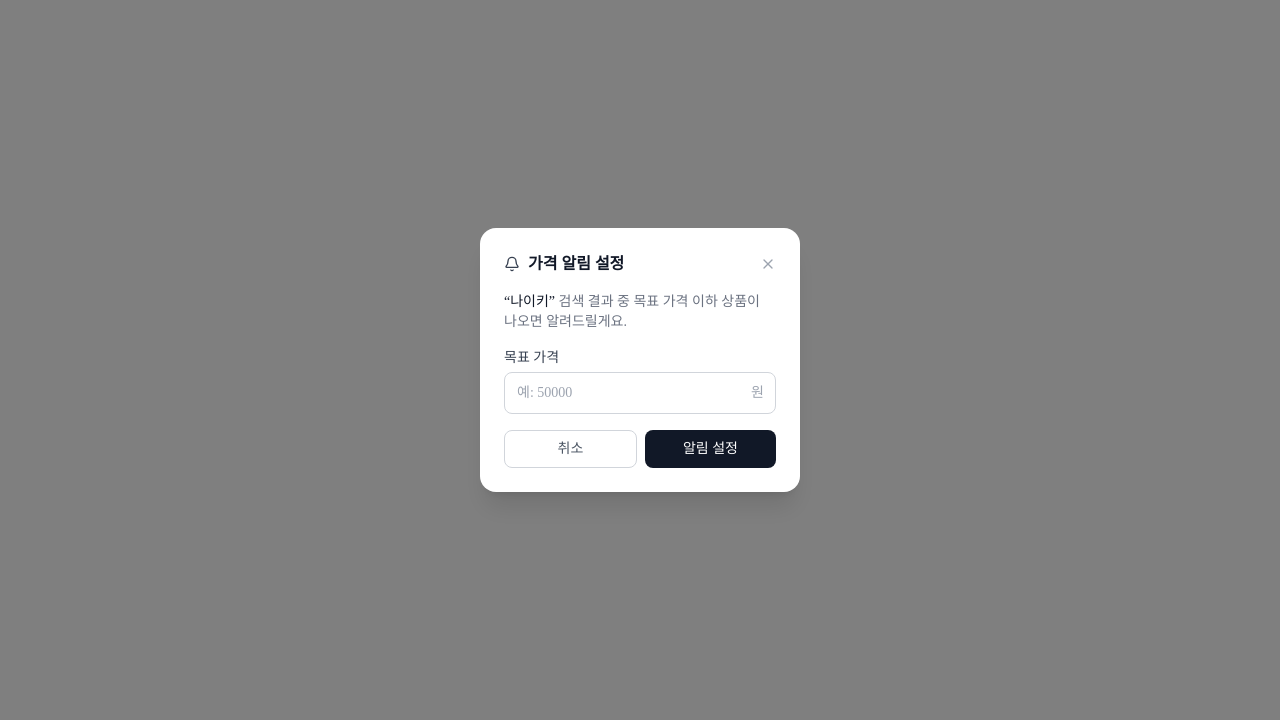
it: AlertModal › 가격 미입력 제출 → 에러 표시
The width and height of the screenshot is (1280, 720).
Step 1. Click the button "알림 설정" → point(710, 449), box [645,430,776,468]
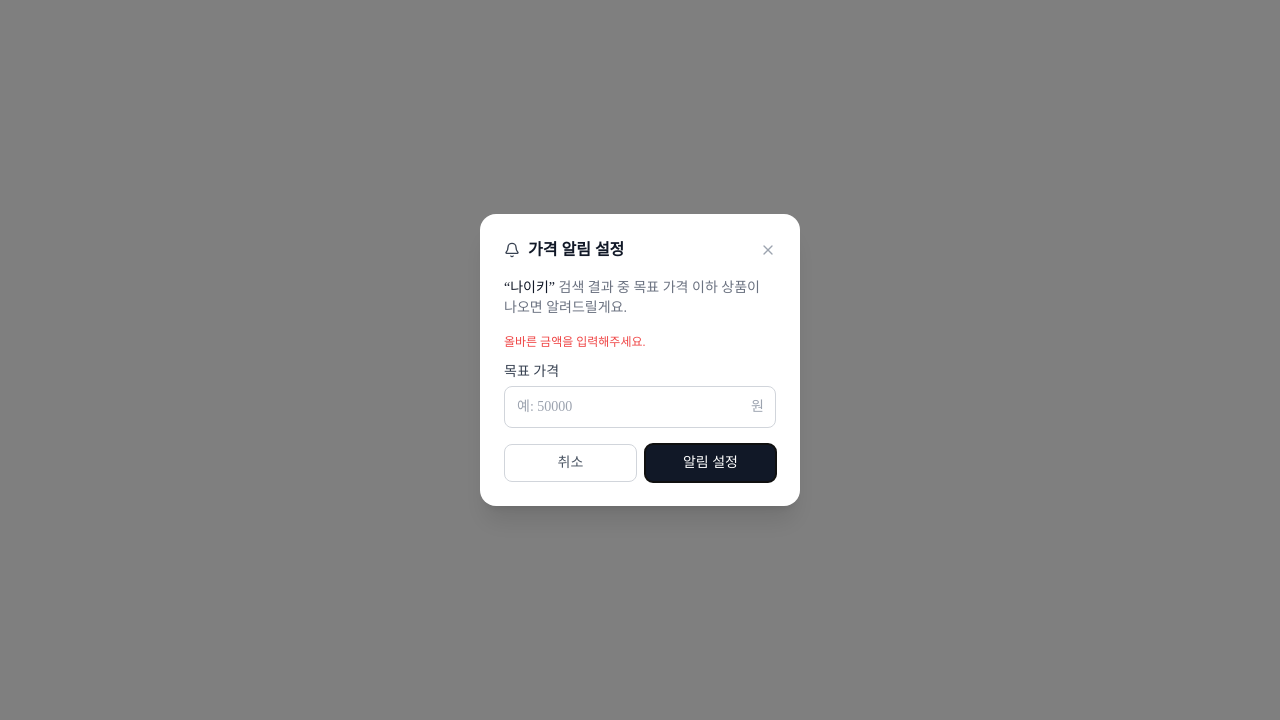
expect the text "올바른 금액을 입력해주세요." is shown: met, box [504,335,646,349]
